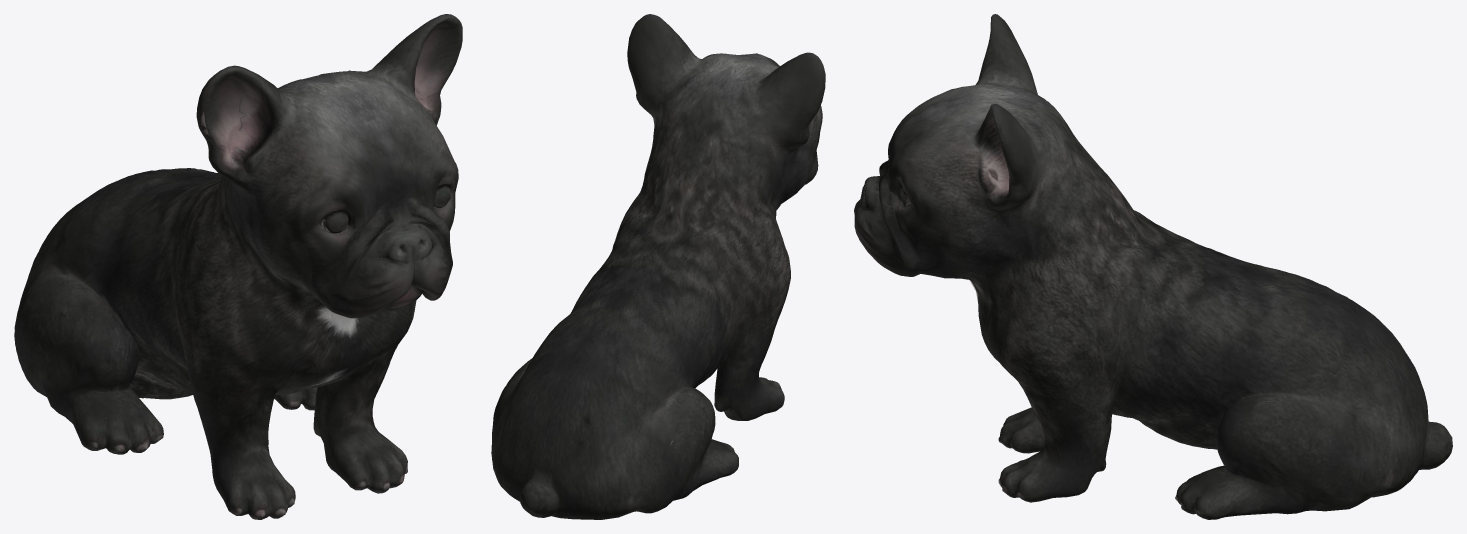
Rendered from dog-frenchie-black.glb.
3 views of the same model, side by side, from view 1: azimuth 30°, elevation 25°; view 2: azimuth 150°, elevation 25°; view 3: azimuth 270°, elevation 25° (orthographic). The views are drawn at different scales.
Parts seen in each view (by area): view 1: Mesh_0; view 2: Mesh_0; view 3: Mesh_0.
Boxes of the visible parts, x1,y1,x2,y2 form: Mesh_0: [14, 14, 462, 519]; Mesh_0: [491, 14, 825, 519]; Mesh_0: [854, 14, 1452, 519].
Size of the model in its own units: 0.8316 by 1.43 by 1.9.
Materials: 1 (1 with a texture image).
